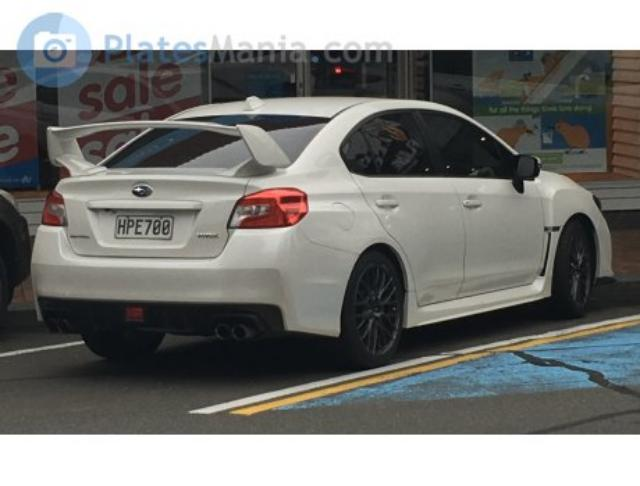Rego: (113, 215, 175, 243)
